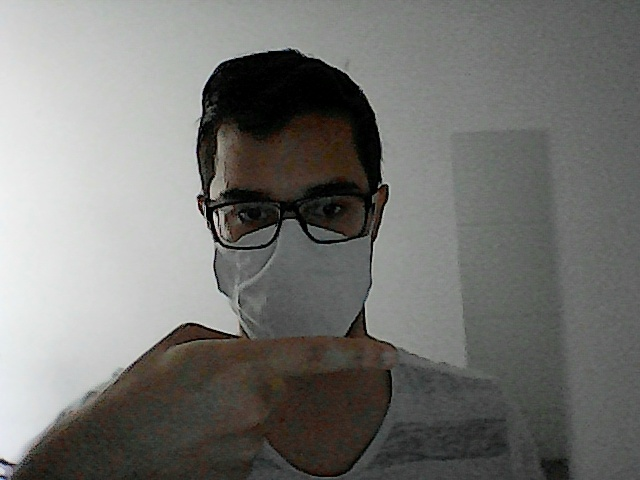left: (122, 319, 407, 480)
